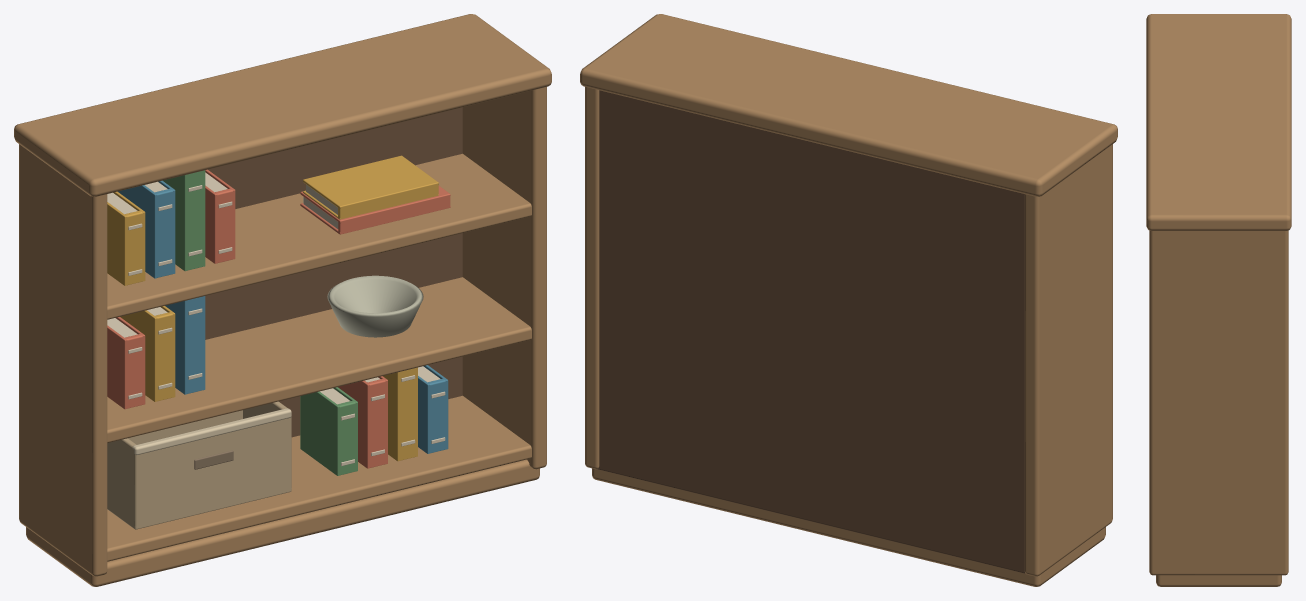
The model's file is bookcase.glb.
3 renders of one model, left to right at view 1: azimuth 30°, elevation 25°; view 2: azimuth 150°, elevation 25°; view 3: azimuth 270°, elevation 25°, orthographic. The views are drawn at different scales.
Parts seen in each view (by area): view 1: proud-crown-cap, case-side--1, supported-shelf-1, case-side-1, continuous-recessed-back, supported-shelf-2, supported-shelf-0, linen-bin-face-1, grounded-recessed-plinth, wide-ceramic-bowl, top-folio-2-cover-1-2650000000000001, bay-0-book-0-cover--1 (+26 smaller); view 2: continuous-recessed-back, proud-crown-cap, case-side--1, grounded-recessed-plinth, case-side-1; view 3: case-side-1, proud-crown-cap, grounded-recessed-plinth, case-side--1.
Part boxes in pixels (x1,y1,x2,y2): proud-crown-cap: (14,14,551,196); case-side--1: (19,122,107,576); supported-shelf-1: (107,277,531,442); case-side-1: (462,15,546,469); continuous-recessed-back: (205,107,462,437); supported-shelf-2: (107,153,531,319); supported-shelf-0: (107,395,531,561); linen-bin-face-1: (132,417,291,526); grounded-recessed-plinth: (26,459,539,586); wide-ceramic-bowl: (327,275,423,337); top-folio-2-cover-1-2650000000000001: (303,155,438,208); bay-0-book-0-cover--1: (300,391,339,475); continuous-recessed-back: (597,90,1025,573); proud-crown-cap: (580,14,1117,196); case-side--1: (1024,122,1112,576); grounded-recessed-plinth: (592,468,1105,586); case-side-1: (585,15,667,469); case-side-1: (1149,210,1288,575); proud-crown-cap: (1146,14,1291,230); grounded-recessed-plinth: (1156,575,1281,586); case-side--1: (1153,15,1284,18).
Size of the model in its own units: 2 by 1.71 by 0.6.
